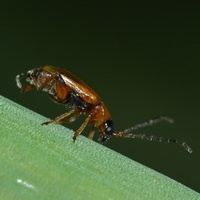insect: (16, 65, 191, 152)
